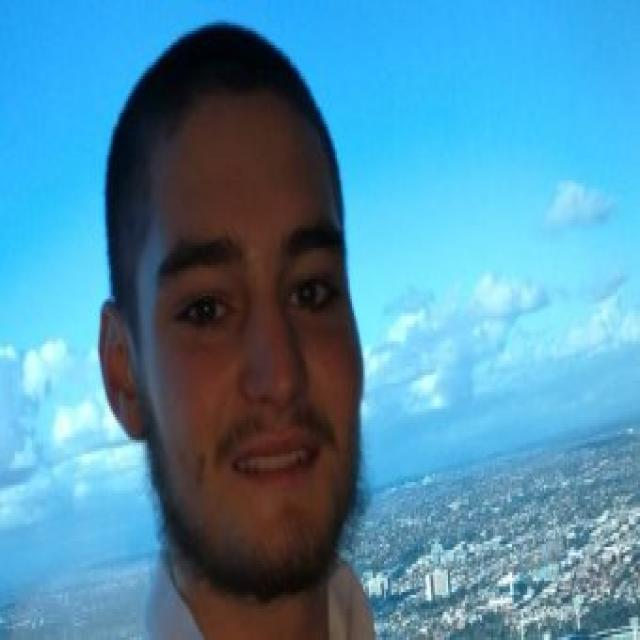human: (92, 19, 406, 640)
